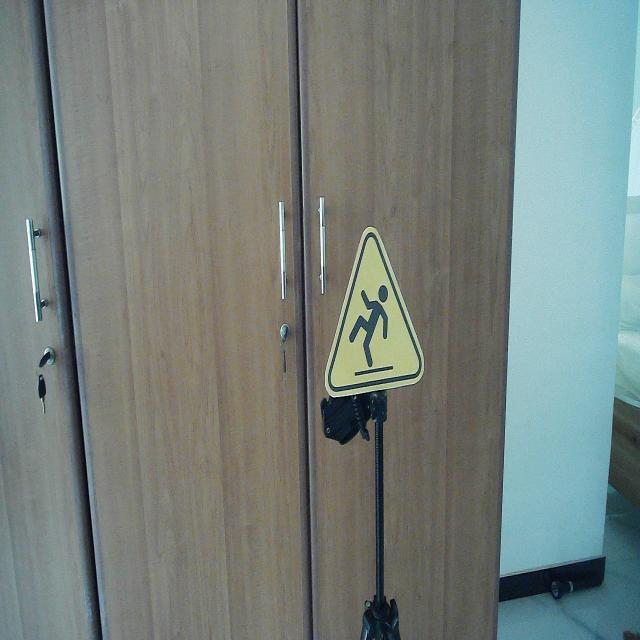slippery_sign: (323, 224, 426, 401)
